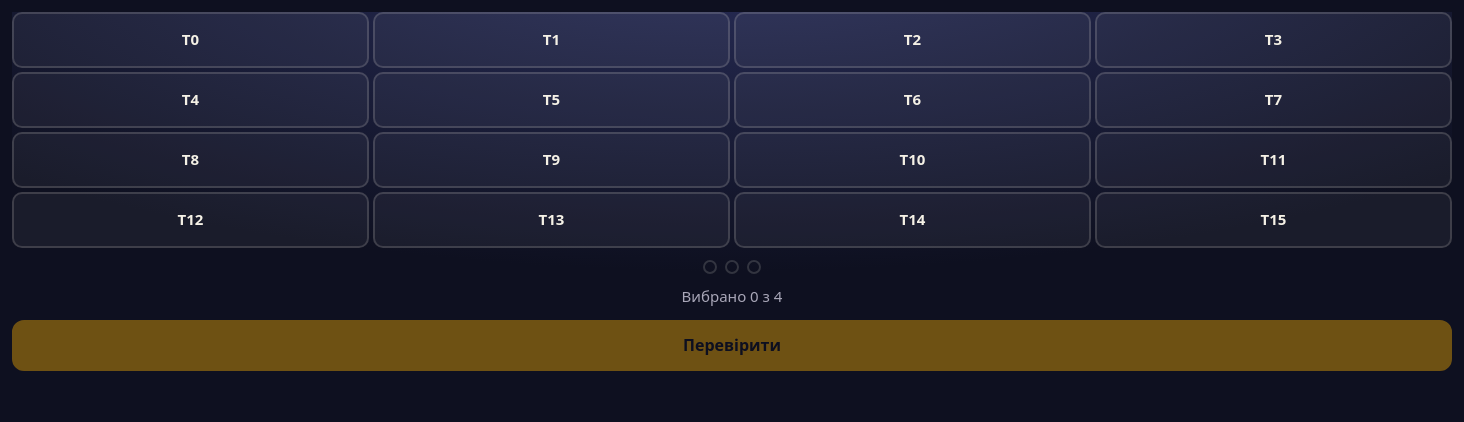
Test: WallInput › server error time_over is shown
Click the button "Т0": (190, 40) [12,12,369,68]
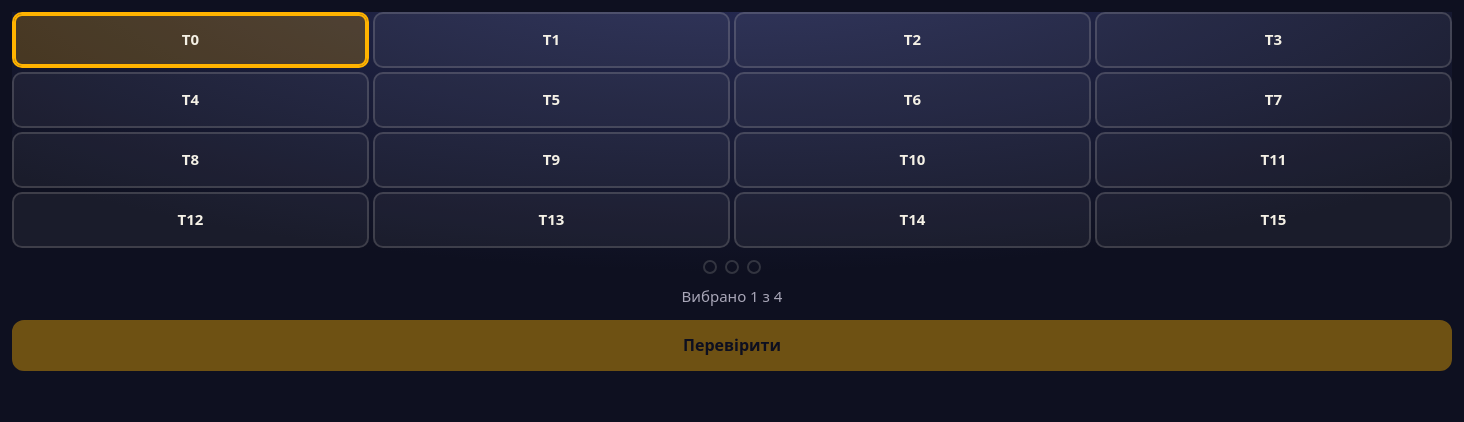
Click the button "Т1": (552, 40) [373,12,730,68]
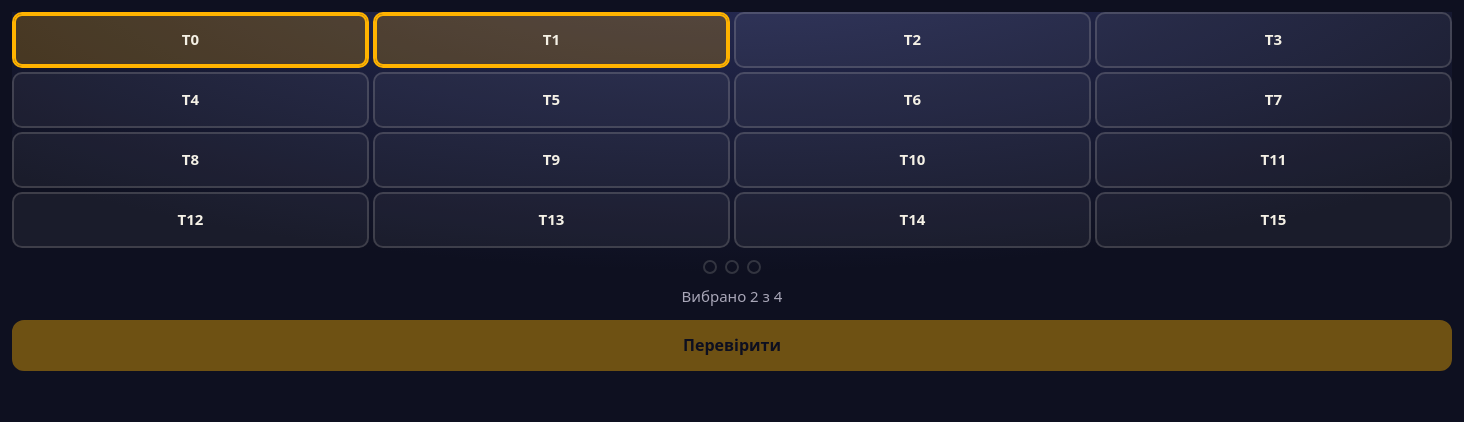
Click the button "Т2": (912, 40) [734,12,1091,68]
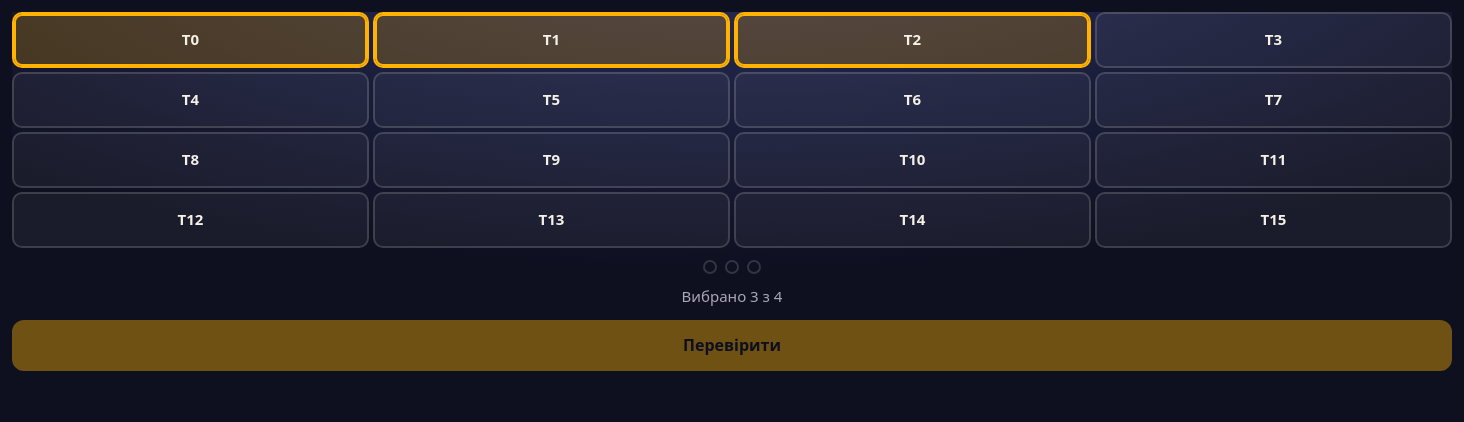
Click the button "Т3": (1274, 40) [1095,12,1452,68]
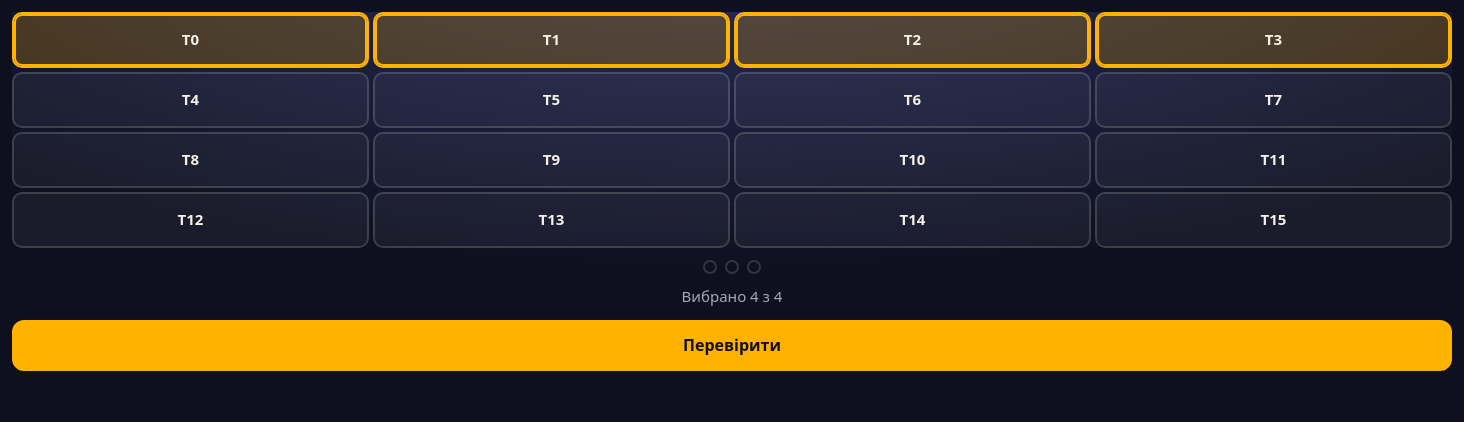
Click the button "Перевірити": (732, 345) [12,320,1452,371]
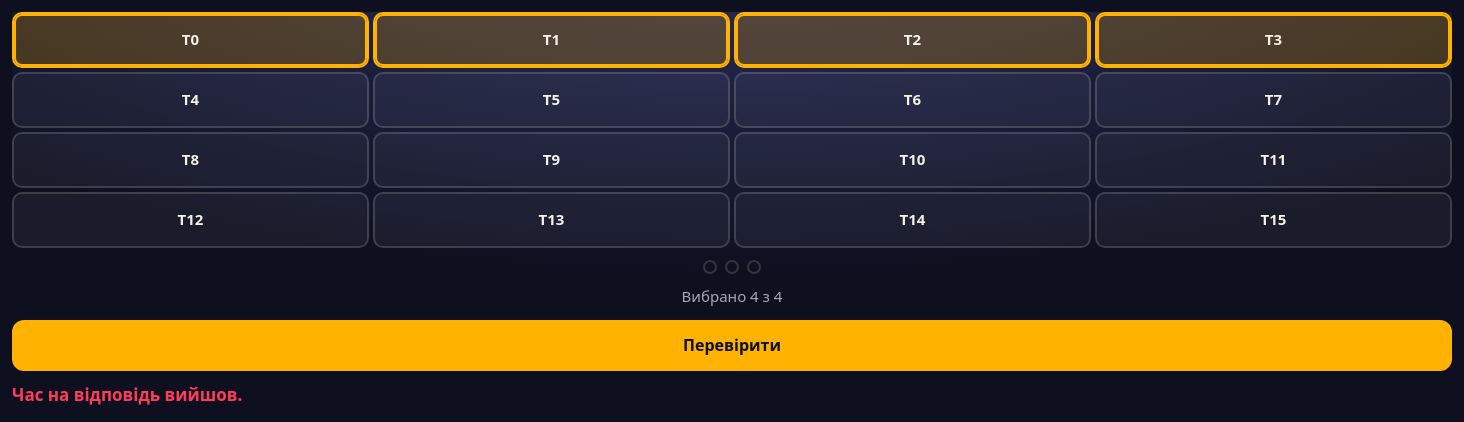
Expected: the text "Час на відповідь вийшов." is shown, [12,383,242,406]
